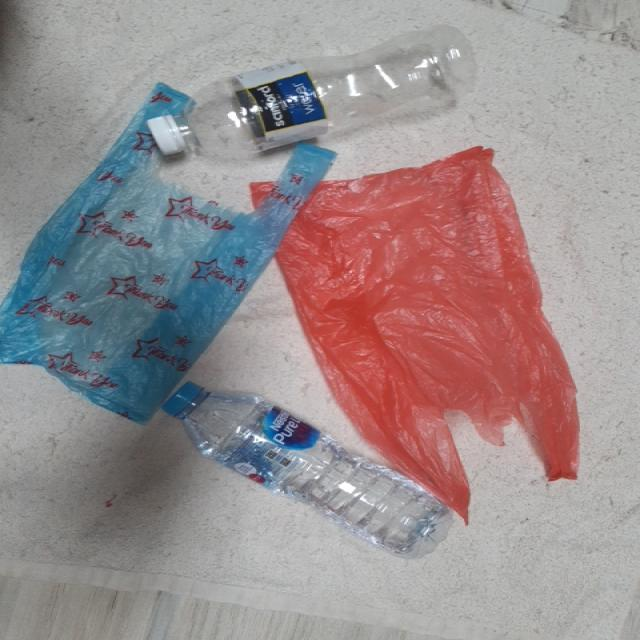Single-layer Plastic: (276, 148, 579, 522), (0, 84, 335, 422)
